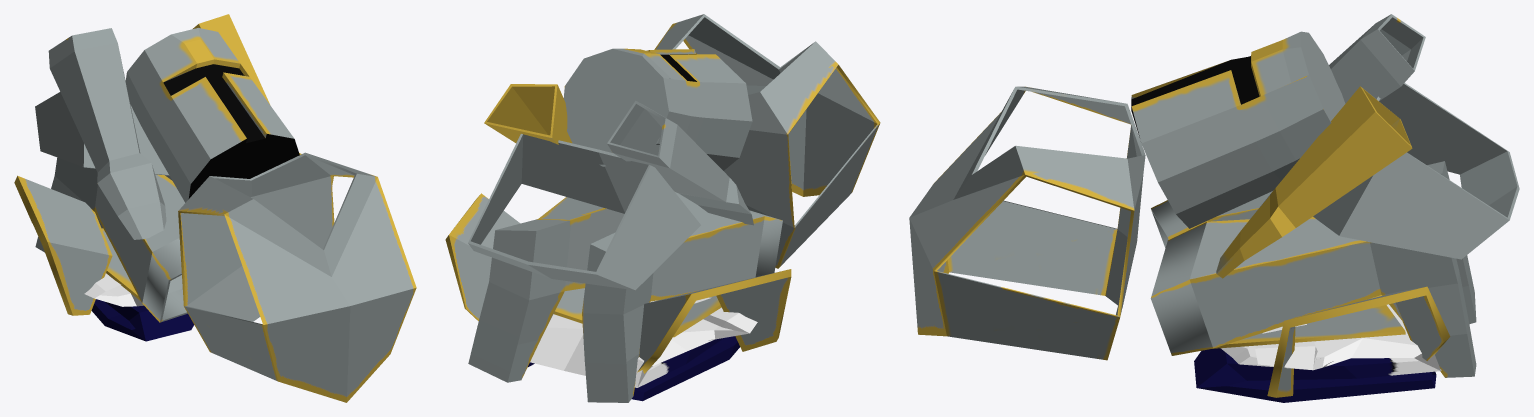
The model's file is Golden Knight Armour.fbx.
3 renders of one model, left to right at view 1: azimuth 30°, elevation 25°; view 2: azimuth 150°, elevation 25°; view 3: azimuth 270°, elevation 25°, orthographic. The views are drawn at different scales.
Parts seen in each view (by area): view 1: Plane.003, Cylinder, Plane.009, Plane.007, Plane.004, Plane.001, Plane.005, Plane.006; view 2: Plane.007, Plane.003, Plane.005, Cylinder, Plane.009, Plane.004, Plane.001, Plane.006; view 3: Plane.003, Plane.007, Cylinder, Plane.005, Plane.009, Plane.001, Plane.004, Plane.006.
Part boxes in pixels (x1,y1,x2,y2): Plane.003: [178, 152, 416, 402]; Cylinder: [125, 28, 299, 202]; Plane.009: [48, 14, 269, 239]; Plane.007: [35, 157, 187, 322]; Plane.004: [14, 153, 333, 315]; Plane.001: [84, 273, 193, 341]; Plane.005: [35, 92, 169, 175]; Plane.006: [101, 228, 140, 300]; Plane.007: [468, 191, 782, 402]; Plane.003: [654, 14, 880, 268]; Plane.005: [468, 134, 700, 290]; Cylinder: [563, 48, 752, 170]; Plane.009: [484, 84, 753, 225]; Plane.004: [445, 193, 791, 373]; Plane.001: [528, 297, 757, 401]; Plane.006: [553, 288, 721, 337]; Plane.003: [909, 86, 1145, 360]; Plane.007: [1150, 161, 1476, 377]; Cylinder: [1131, 31, 1345, 228]; Plane.005: [1313, 83, 1519, 259]; Plane.009: [1216, 14, 1425, 278]; Plane.001: [1194, 304, 1441, 402]; Plane.004: [1267, 286, 1450, 397]; Plane.006: [1212, 295, 1405, 348].
Bounding box in the file's own units: 21.82 × 19.24 × 33.66.
